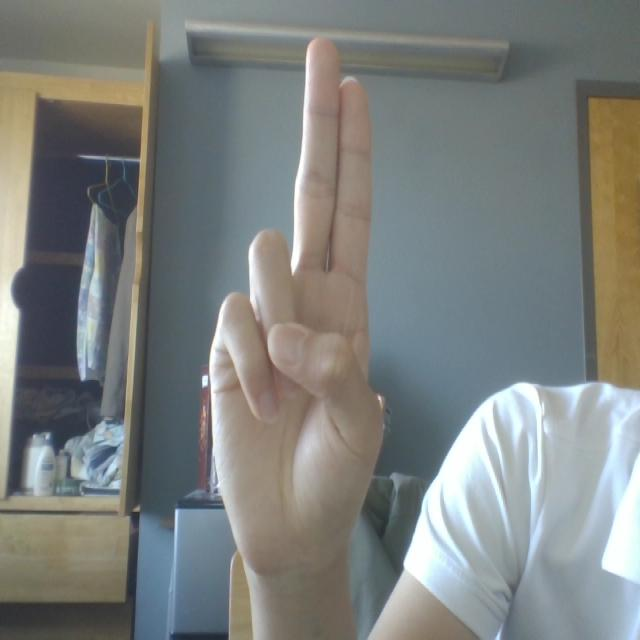U: (177, 15, 441, 584)
